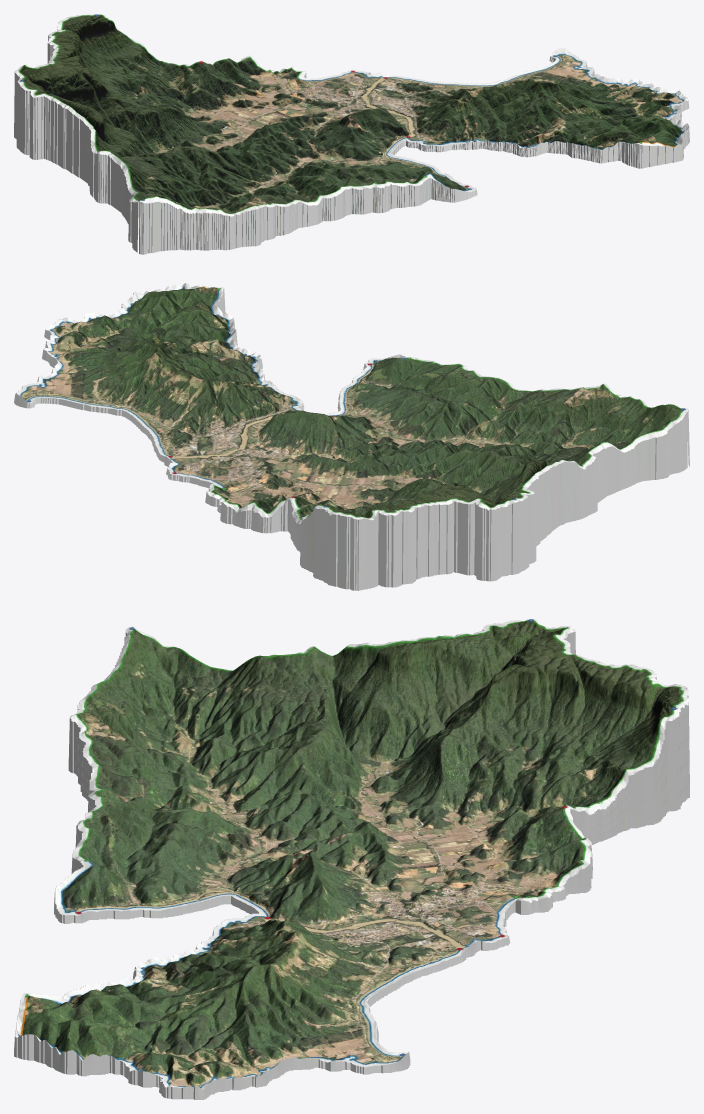
3 views of the same model, one above another, from view 1: azimuth 30°, elevation 25°; view 2: azimuth 150°, elevation 25°; view 3: azimuth 270°, elevation 25° (orthographic). The views are drawn at different scales.
Bounding box in the file's own units: 1 × 0.1167 × 0.7166.
1 material, 1 textured.
